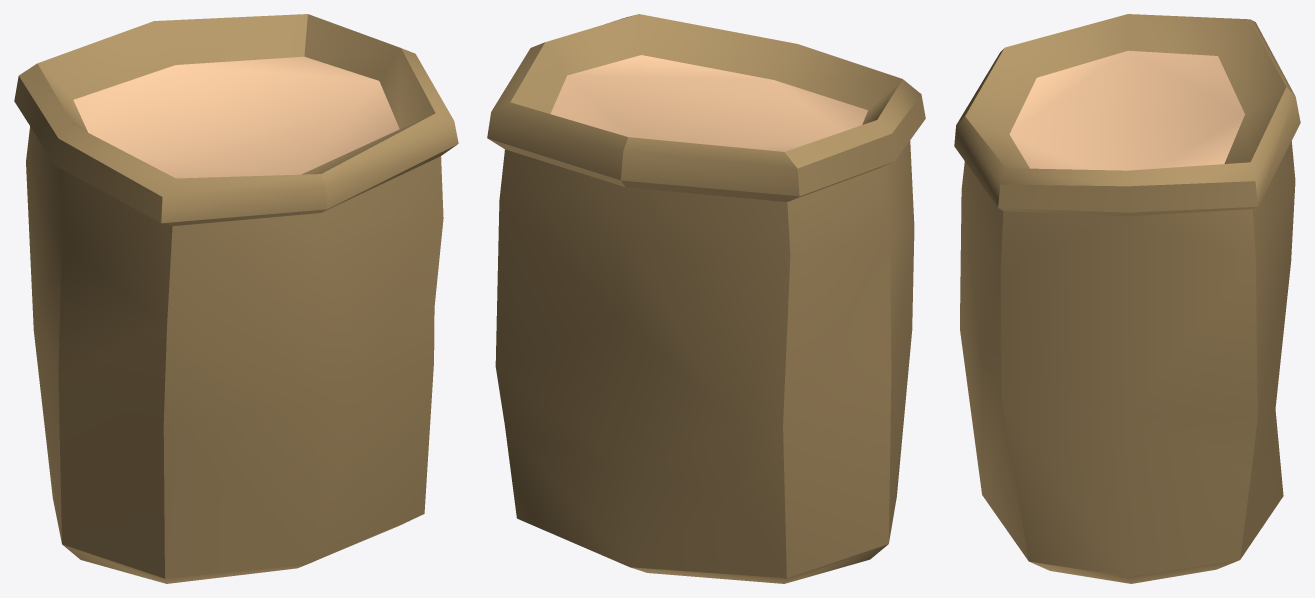
The model's file is Bag_02.fbx.
3 renders of one model, left to right at view 1: azimuth 30°, elevation 25°; view 2: azimuth 150°, elevation 25°; view 3: azimuth 270°, elevation 25°, orthographic. The views are drawn at different scales.
Visible parts, largest first — view 1: Bag_02; view 2: Bag_02; view 3: Bag_02.
Part boxes in pixels (x1,y1,x2,y2): Bag_02: [14, 14, 458, 583]; Bag_02: [487, 14, 925, 583]; Bag_02: [954, 14, 1300, 583].
Bounding box in the file's own units: 56.04 × 66.25 × 48.27.
